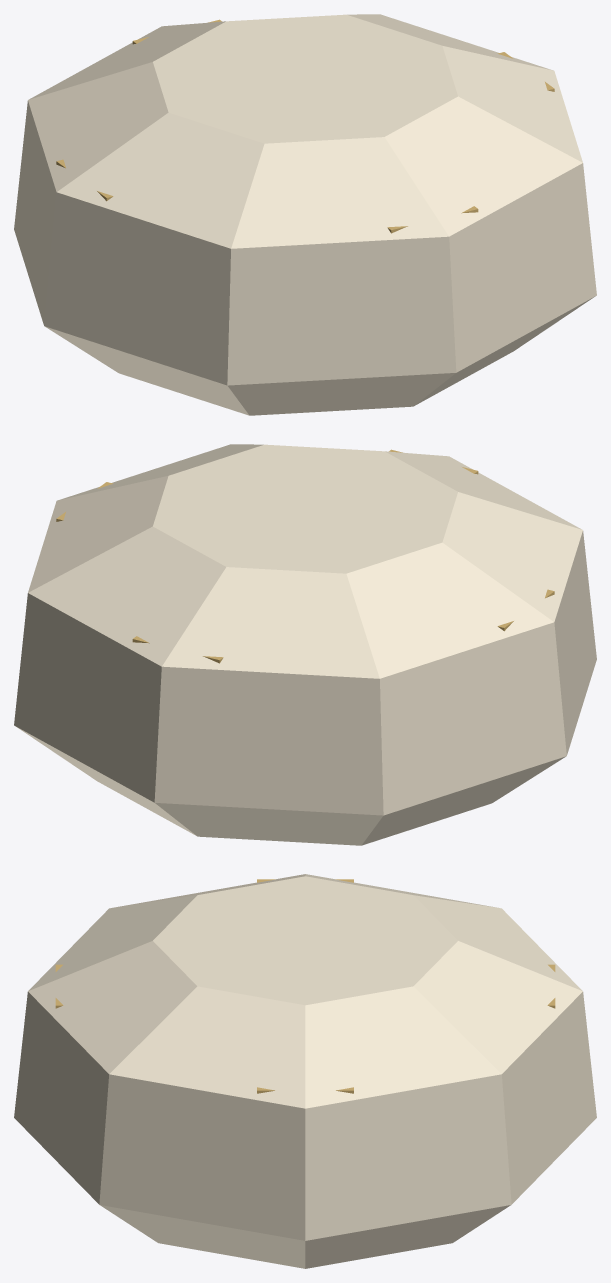
Rendered from pan_de_muerto.glb.
The picture shows the model from 3 angles, top to bottom: view 1: azimuth 30°, elevation 25°; view 2: azimuth 150°, elevation 25°; view 3: azimuth 270°, elevation 25°; orthographic projection. The views are drawn at different scales.
Visible parts, largest first — view 1: Pan; view 2: Pan; view 3: Pan.
Boxes of the visible parts, x1=… form: Pan: x1=14, y1=14, x2=596, y2=415; Pan: x1=14, y1=444, x2=596, y2=845; Pan: x1=14, y1=874, x2=596, y2=1268.
Size of the model in its own units: 0.22 by 0.1 by 0.22.
